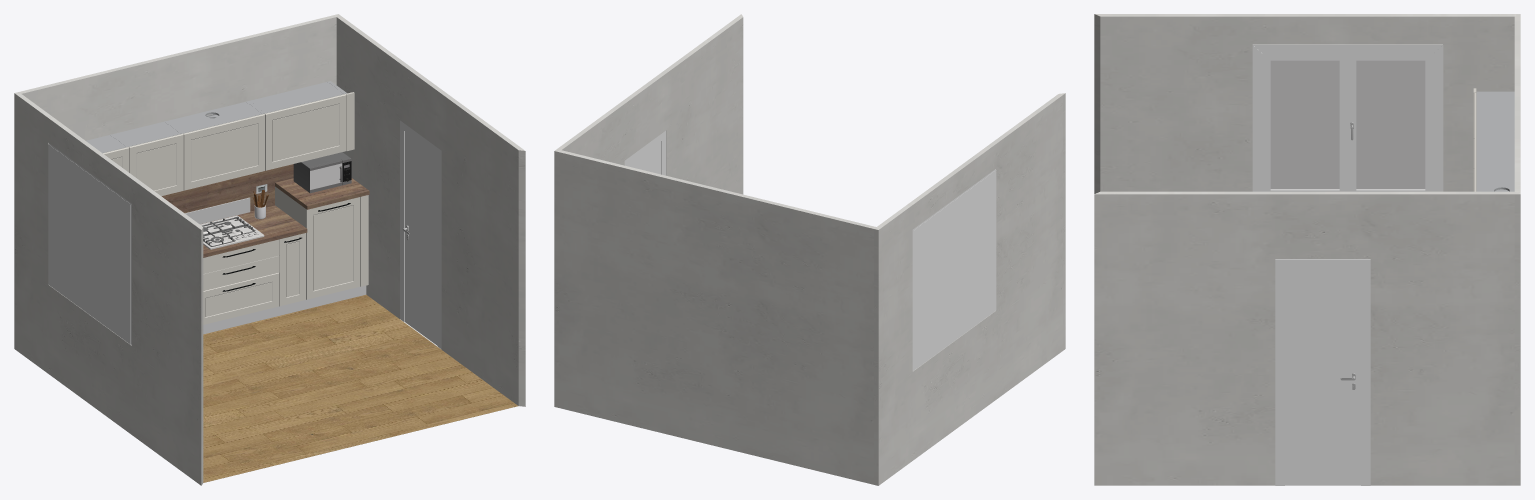
The model's file is simple_linear_kitchen-opt.glb.
The picture shows the model from 3 angles, left to right: view 1: azimuth 30°, elevation 25°; view 2: azimuth 150°, elevation 25°; view 3: azimuth 270°, elevation 25°; orthographic projection. The views are drawn at different scales.
Parts seen in each view (by area): view 1: Mesh2_img1_1_0, Mesh5_Color_5_0, Mesh4_img2_4_0, Mesh1_img1_0_0, Mesh11_img29_30_0, Mesh12_img24_35_0, Mesh6_Color_9_0, Mesh12_img23_34_0; view 2: Mesh1_img1_0_0, Mesh2_img1_1_0, Mesh5_Color_5_0; view 3: Mesh2_img1_1_0, Mesh5_Color_5_0, Mesh1_img1_0_0.
Boxes of the visible parts, x1,y1,x2,y2 form: Mesh2_img1_1_0: [14, 14, 525, 485]; Mesh5_Color_5_0: [48, 81, 441, 349]; Mesh4_img2_4_0: [203, 294, 518, 482]; Mesh1_img1_0_0: [15, 14, 338, 140]; Mesh11_img29_30_0: [162, 164, 369, 257]; Mesh12_img24_35_0: [202, 158, 366, 334]; Mesh6_Color_9_0: [200, 215, 264, 249]; Mesh12_img23_34_0: [293, 152, 351, 192]; Mesh1_img1_0_0: [554, 150, 878, 485]; Mesh2_img1_1_0: [555, 14, 1065, 485]; Mesh5_Color_5_0: [624, 130, 996, 371]; Mesh2_img1_1_0: [1094, 14, 1520, 485]; Mesh5_Color_5_0: [1252, 44, 1514, 485]; Mesh1_img1_0_0: [1514, 14, 1520, 193].
Bounding box in the file's own units: 36.43 × 27.01 × 35.8.
49 materials, 45 textured.
